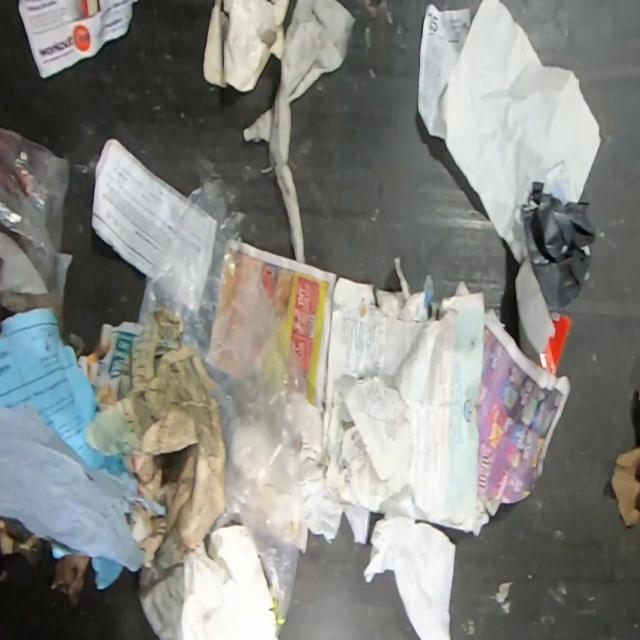soft_plastic: (136, 176, 313, 639), (0, 403, 166, 573), (0, 127, 72, 296), (521, 180, 598, 314)
